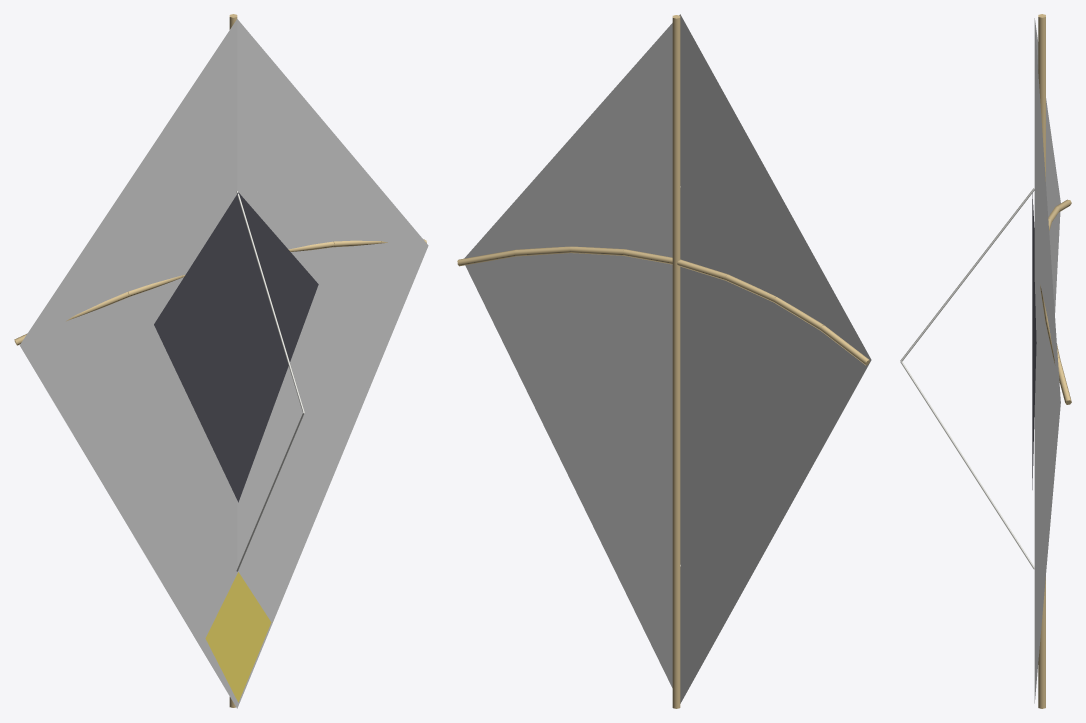
Rendered from kite_speed.glb.
The picture shows the model from 3 angles, left to right: view 1: azimuth 30°, elevation 25°; view 2: azimuth 150°, elevation 25°; view 3: azimuth 270°, elevation 25°; orthographic projection.
Visible parts, largest first — view 1: KiteSpeed; view 2: KiteSpeed; view 3: KiteSpeed.
Boxes of the visible parts, x1,y1,x2,y2 form: KiteSpeed: (14,14,428,708); KiteSpeed: (457,14,871,708); KiteSpeed: (900,14,1071,708).
Bounding box in the file's own units: 1.25 × 2 × 0.4506.
